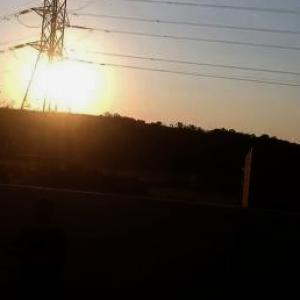follow: (2, 188, 66, 299)
